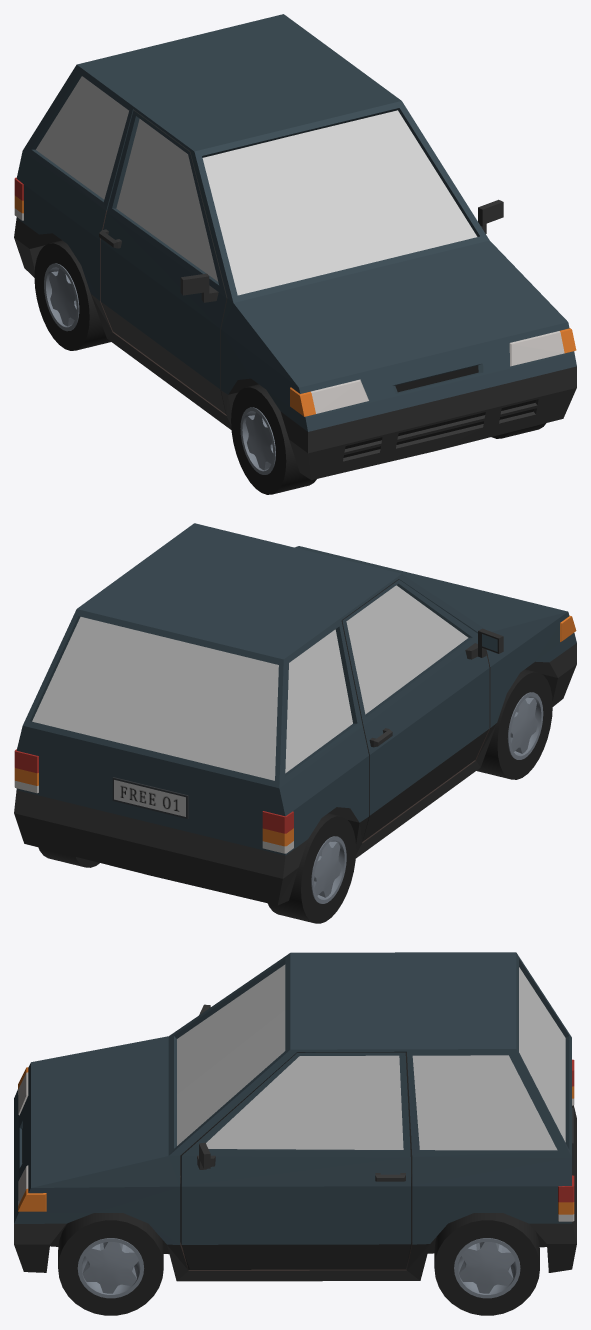
The model's file is car.dae.
The picture shows the model from 3 angles, top to bottom: view 1: azimuth 30°, elevation 25°; view 2: azimuth 150°, elevation 25°; view 3: azimuth 270°, elevation 25°; orthographic projection. The views are drawn at different scales.
Parts seen in each view (by area): view 1: car, windows, door, wheel (×2), win; view 2: car, windows, door, wheel (×2), win, free; view 3: car, door, windows, wheel (×2), win.
Boxes of the visible parts, x1,y1,x2,y2 form: car: (14,14,576,480); windows: (36,76,477,295); door: (99,110,227,414); wheel (×2): (34,240,316,494); win: (116,119,218,281); car: (14,523,576,905); windows: (32,617,352,780); door: (341,579,503,841); wheel (×2): (268,669,552,923); win: (346,585,468,714); free: (112,777,188,818); car: (14,952,576,1281); door: (180,1052,412,1269); windows: (177,964,565,1150); wheel (×2): (58,1213,539,1315); win: (206,1055,403,1149).
Size of the model in its own units: 2.18 by 1.71 by 3.46.
